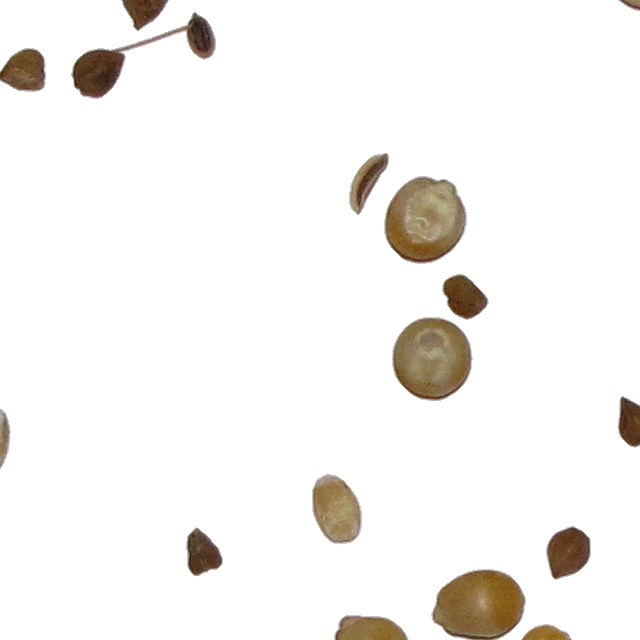buckwheat: (70, 43, 121, 100), (348, 152, 390, 216), (545, 525, 592, 581), (444, 273, 493, 321), (185, 526, 224, 577), (616, 395, 640, 449)
mais: (383, 175, 468, 265), (391, 316, 474, 402), (430, 568, 527, 640), (333, 614, 413, 640), (515, 623, 574, 640)
other: (311, 473, 363, 545)
